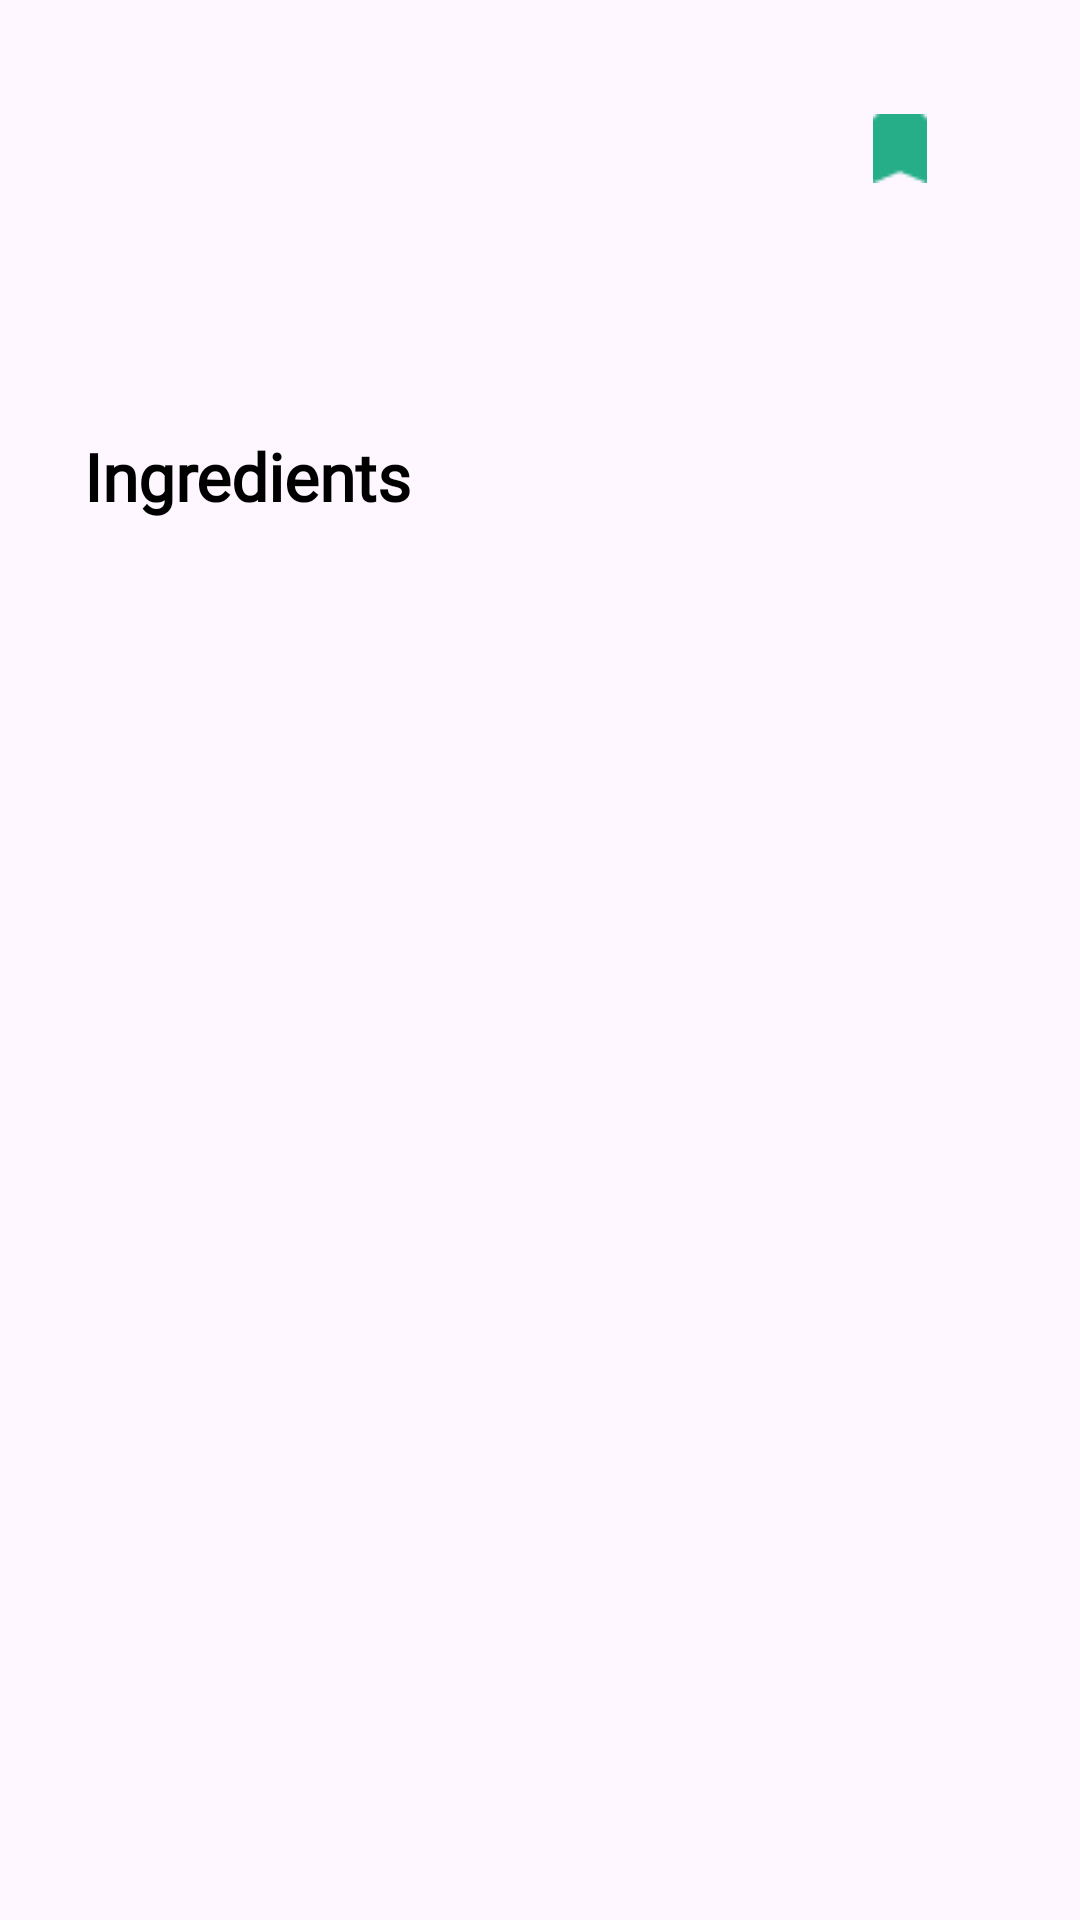

Where to tap for icons on this 1080×1920 app screen, as (x=x, y=y):
saved: (x=900, y=148)
